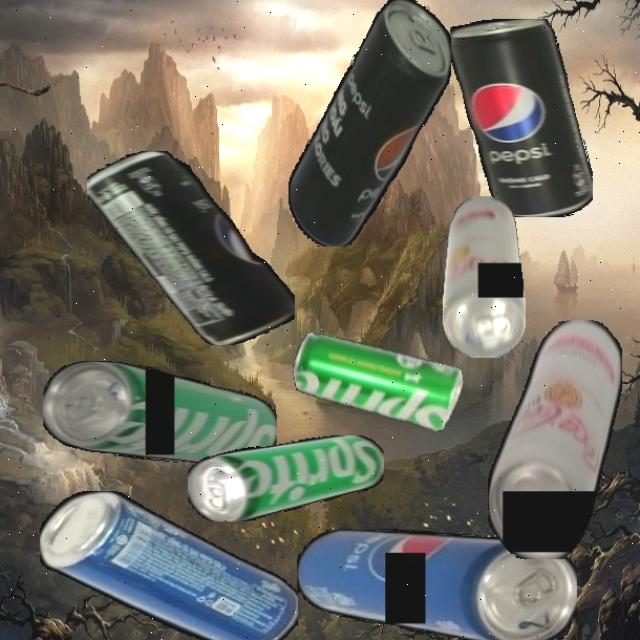debris: (87, 150, 295, 345), (288, 0, 451, 247), (39, 491, 298, 640), (487, 319, 622, 559), (296, 529, 577, 640), (449, 19, 593, 217), (288, 308, 471, 454), (43, 360, 277, 464), (188, 434, 384, 522), (442, 195, 526, 358)
